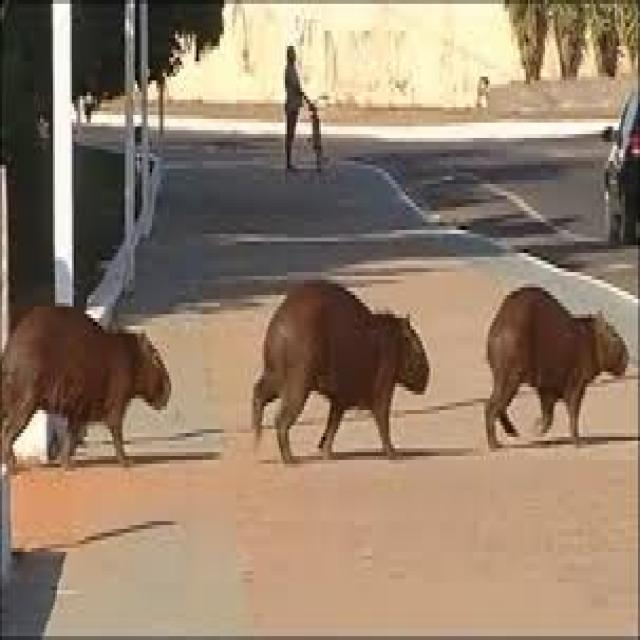capy: (250, 278, 430, 461), (0, 295, 169, 471), (483, 276, 630, 447)
